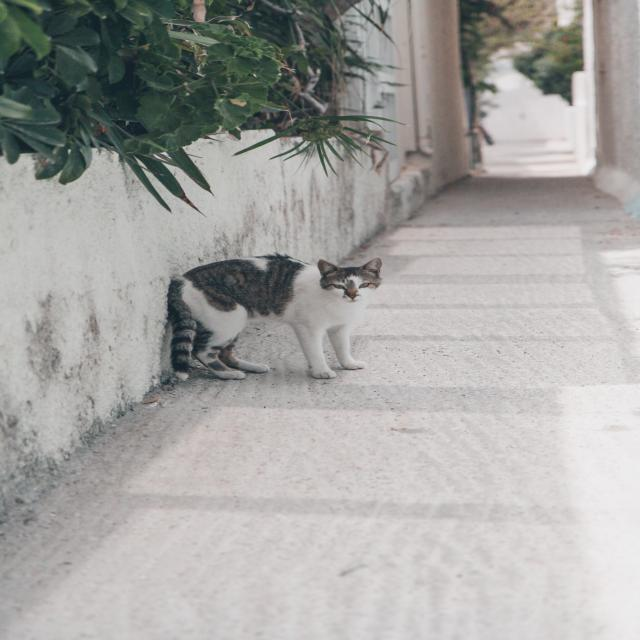cat: (110, 234, 445, 396)
